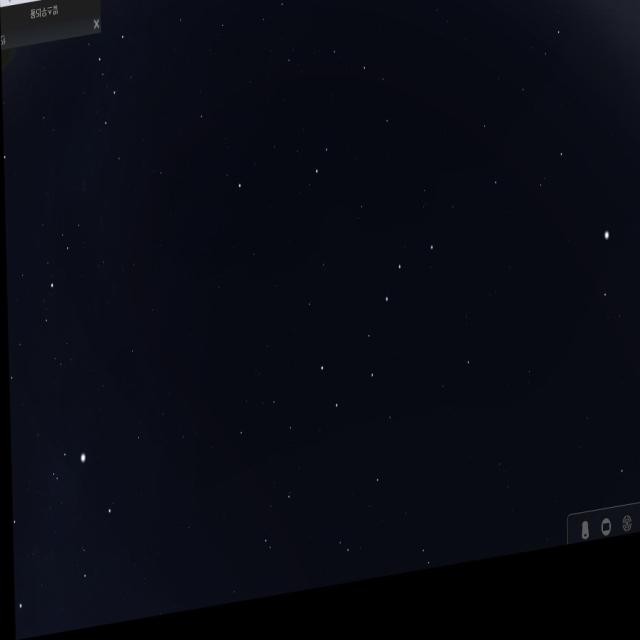cassiopeia: (90, 16, 135, 183)
ursa_major: (314, 256, 436, 440)
